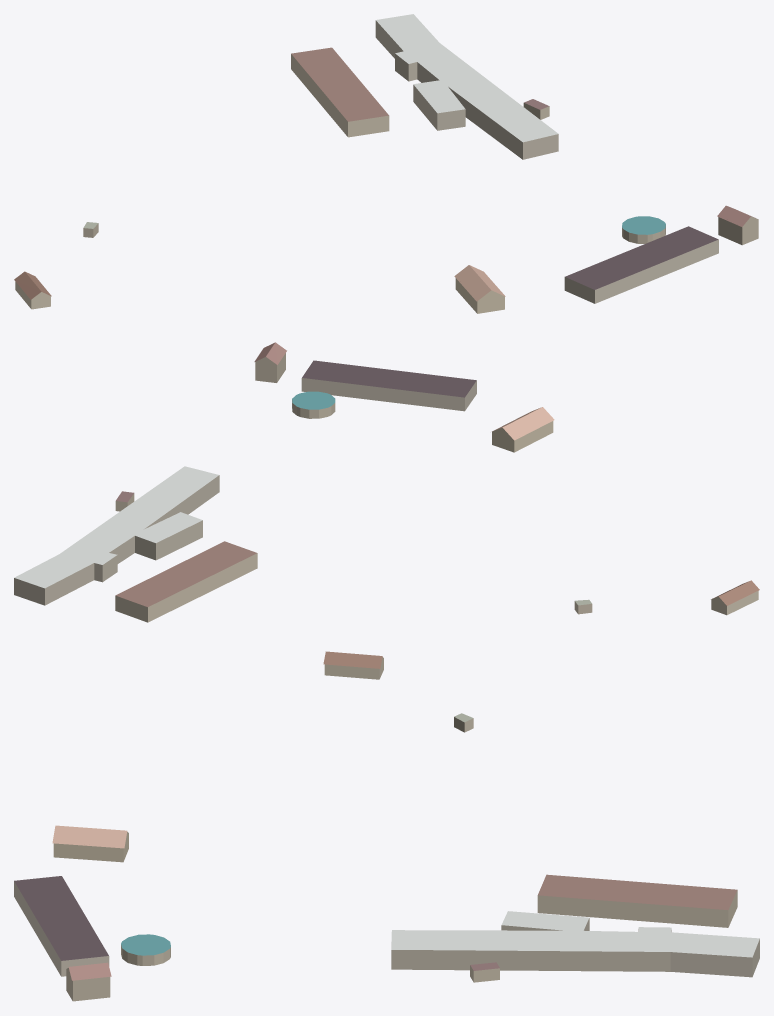
3 renders of one model, top to bottom at view 1: azimuth 30°, elevation 25°; view 2: azimuth 150°, elevation 25°; view 3: azimuth 270°, elevation 25°, orthographic. The views are drawn at different scales.
Parts seen in each view (by area): view 1: tuile; view 2: tuile; view 3: tuile.
Part boxes in pixels (bbox=[...]): tuile: bbox=[14, 14, 758, 313]; tuile: bbox=[14, 342, 759, 622]; tuile: bbox=[14, 651, 759, 1001].
Size of the model in its own units: 248 by 11.37 by 229.
